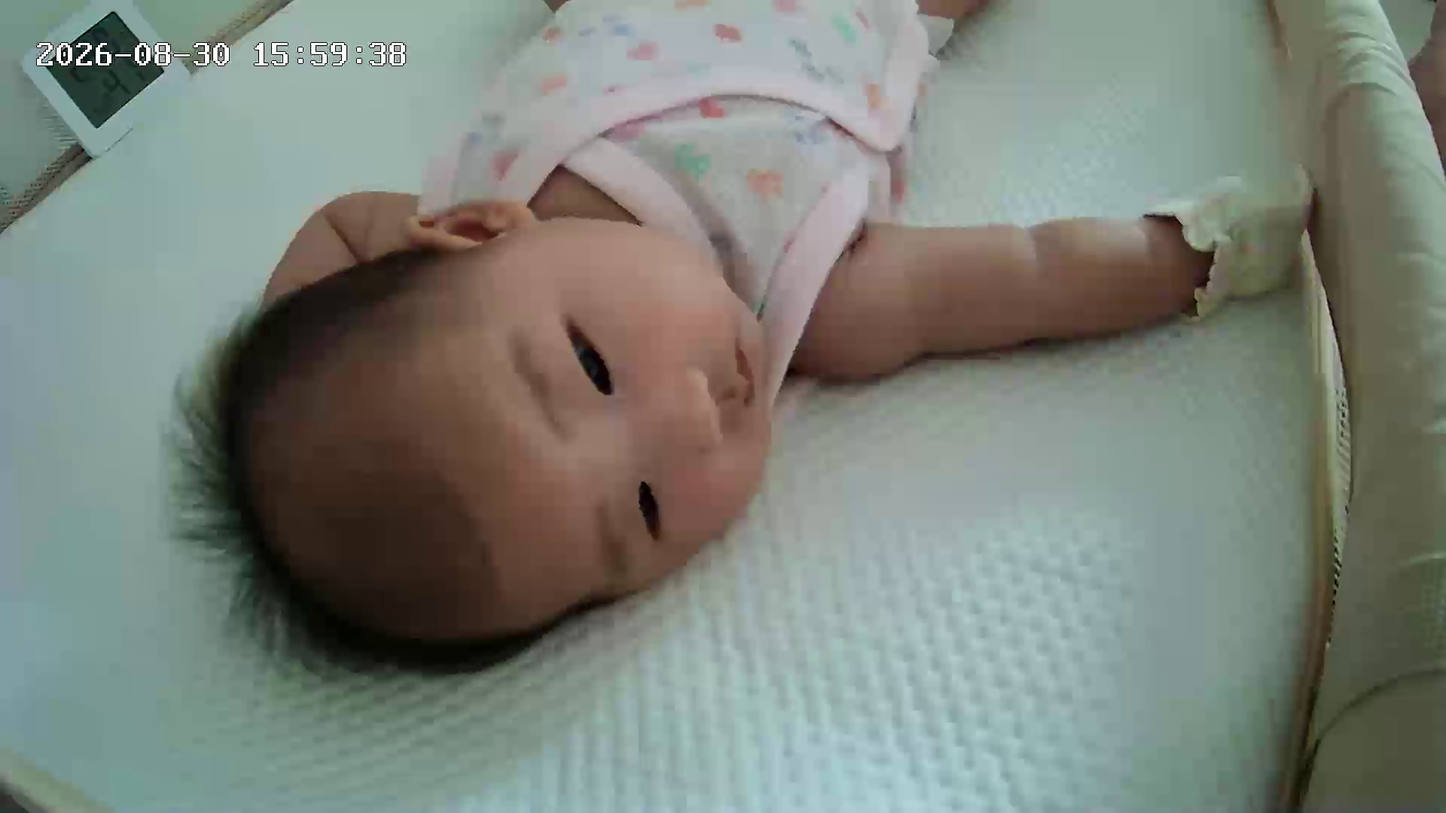baby: (176, 1, 1259, 684), (613, 0, 1367, 813)
baby_face: (188, 210, 796, 671), (835, 313, 1352, 813), (884, 0, 1326, 375)
